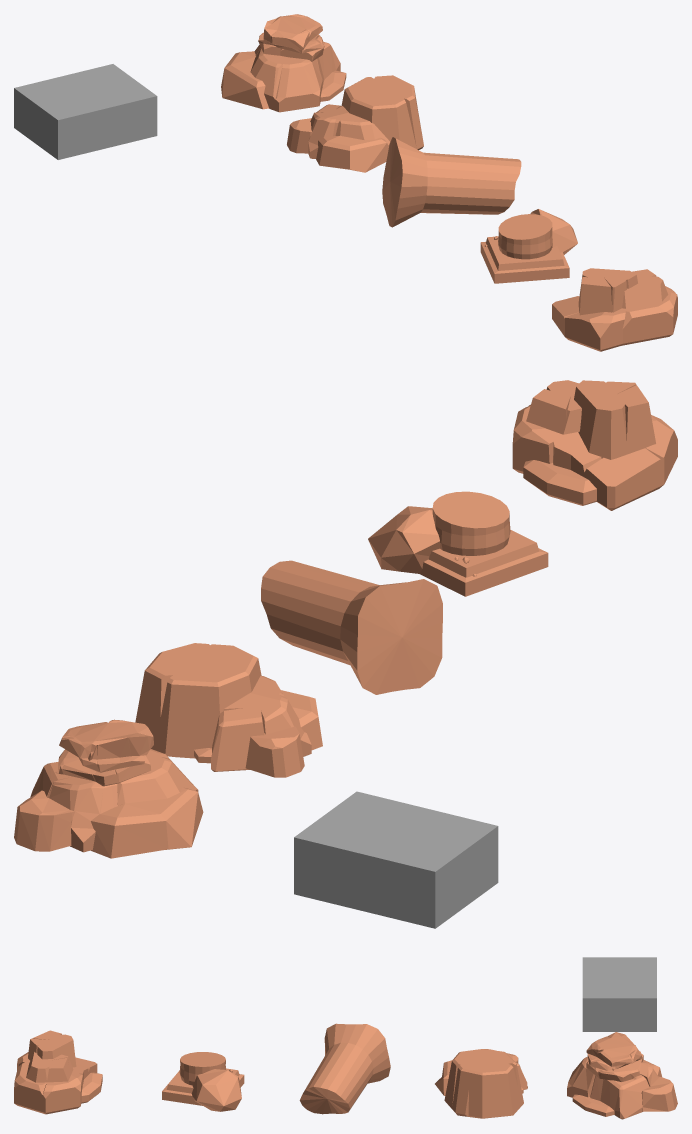
The model's file is jump_obstacle.fbx.
3 renders of one model, top to bottom at view 1: azimuth 30°, elevation 25°; view 2: azimuth 150°, elevation 25°; view 3: azimuth 270°, elevation 25°, orthographic. The views are drawn at different scales.
Parts seen in each view (by area): view 1: jump_obstacle_dummy, jump_obstacle_B, jump_obstacle_A, jump_obstacle_C, jump_obstacle_E, jump_obstacle_D; view 2: jump_obstacle_dummy, jump_obstacle_A, jump_obstacle_B, jump_obstacle_C, jump_obstacle_E, jump_obstacle_D; view 3: jump_obstacle_A, jump_obstacle_dummy, jump_obstacle_C, jump_obstacle_E, jump_obstacle_B, jump_obstacle_D.
Boxes of the visible parts, bbox=[...] form: jump_obstacle_dummy: bbox=[14, 64, 157, 159]; jump_obstacle_B: bbox=[287, 75, 423, 172]; jump_obstacle_A: bbox=[221, 14, 346, 112]; jump_obstacle_C: bbox=[382, 137, 521, 227]; jump_obstacle_E: bbox=[552, 268, 677, 351]; jump_obstacle_D: bbox=[480, 209, 577, 283]; jump_obstacle_dummy: bbox=[294, 791, 498, 928]; jump_obstacle_A: bbox=[14, 719, 203, 858]; jump_obstacle_B: bbox=[135, 643, 322, 777]; jump_obstacle_C: bbox=[261, 560, 442, 694]; jump_obstacle_E: bbox=[512, 380, 677, 510]; jump_obstacle_D: bbox=[368, 491, 548, 596]; jump_obstacle_A: bbox=[567, 1032, 677, 1119]; jump_obstacle_dummy: bbox=[582, 957, 656, 1031]; jump_obstacle_C: bbox=[299, 1023, 390, 1114]; jump_obstacle_E: bbox=[14, 1030, 102, 1114]; jump_obstacle_B: bbox=[435, 1049, 527, 1118]; jump_obstacle_D: bbox=[162, 1052, 244, 1111].
Bounding box in the file's own units: 816 × 189 × 1781.
